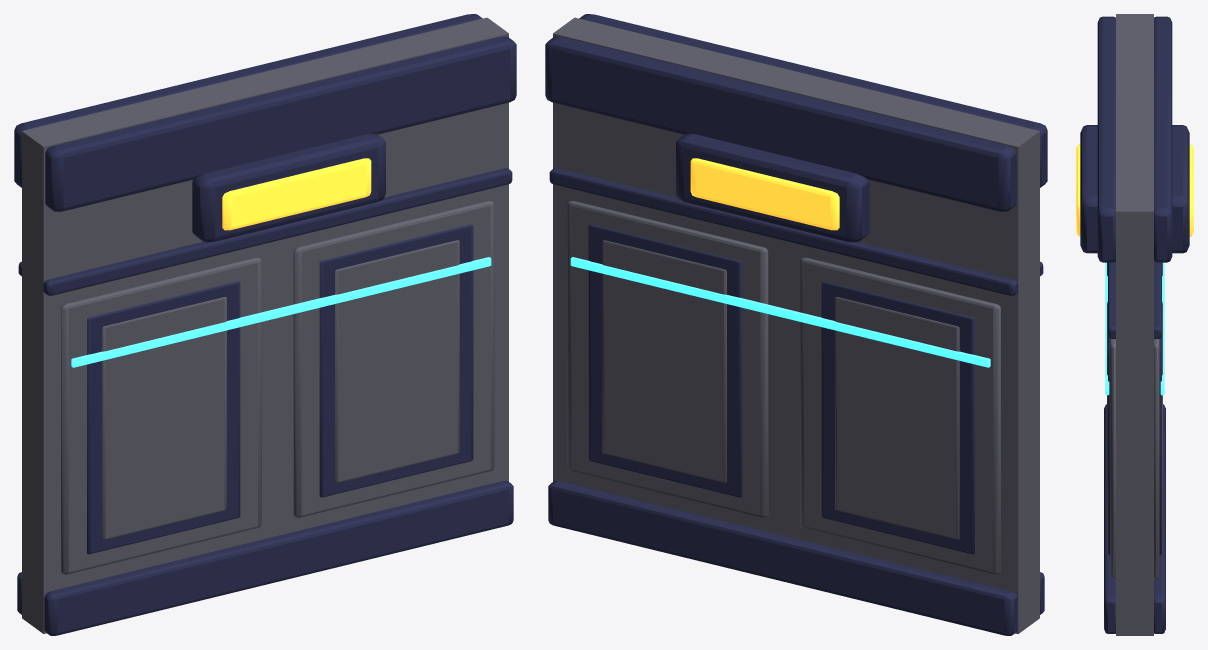
File: wall.straight.b.glb
3 renders of one model, left to right at view 1: azimuth 30°, elevation 25°; view 2: azimuth 150°, elevation 25°; view 3: azimuth 270°, elevation 25°, orthographic. The views are drawn at different scales.
Visible parts, largest first — view 1: GEO-wall.straight.b; view 2: GEO-wall.straight.b; view 3: GEO-wall.straight.b.
Part boxes in pixels (x1,y1,x2,y2): GEO-wall.straight.b: [14, 14, 516, 635]; GEO-wall.straight.b: [545, 14, 1047, 635]; GEO-wall.straight.b: [1076, 14, 1193, 635].
Size of the model in its own units: 1 by 1 by 0.25.
